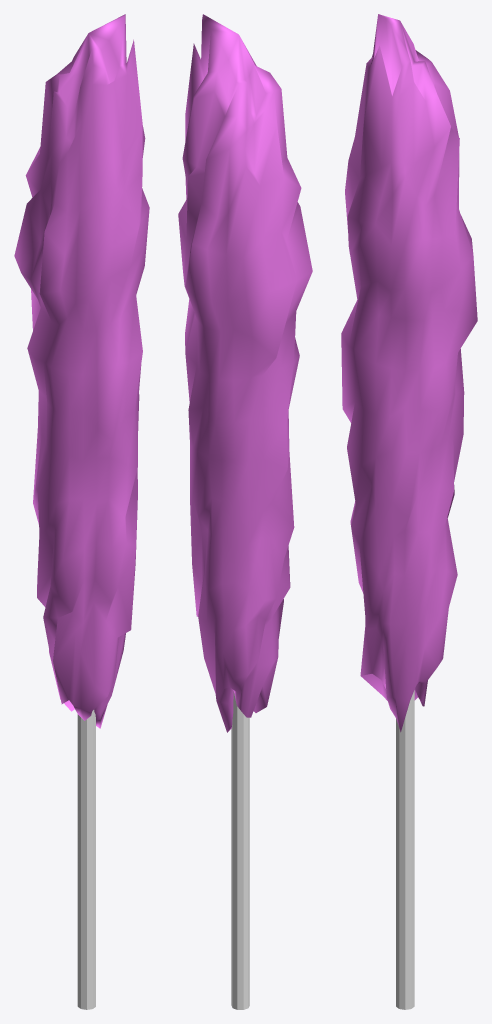
The model's file is RockCandyTree.obj.
3 views of the same model, side by side, from view 1: azimuth 30°, elevation 25°; view 2: azimuth 210°, elevation 25°; view 3: azimuth 270°, elevation 25° (orthographic).
Visible parts, largest first — view 1: RockCandyTree; view 2: RockCandyTree; view 3: RockCandyTree.
Boxes of the visible parts, x1=… form: RockCandyTree: x1=14, y1=14, x2=149, y2=1009; RockCandyTree: x1=178, y1=14, x2=312, y2=1009; RockCandyTree: x1=341, y1=14, x2=477, y2=1009.
Size of the model in its own units: 14.01 by 118 by 14.54.
